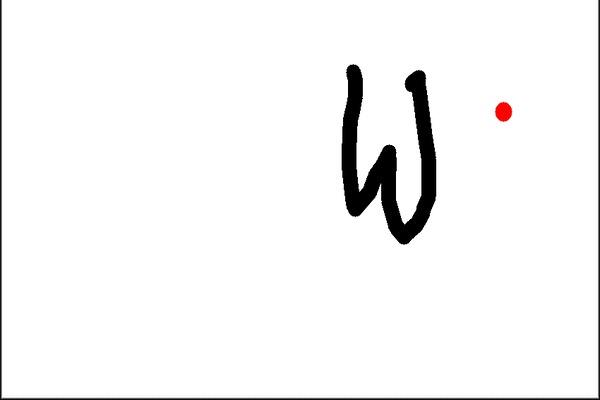w: (322, 54, 449, 248)
